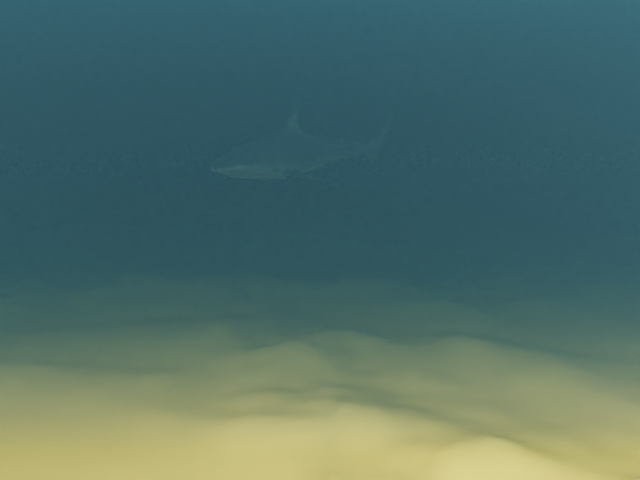Carribean Shark.001: (210, 104, 393, 185)
